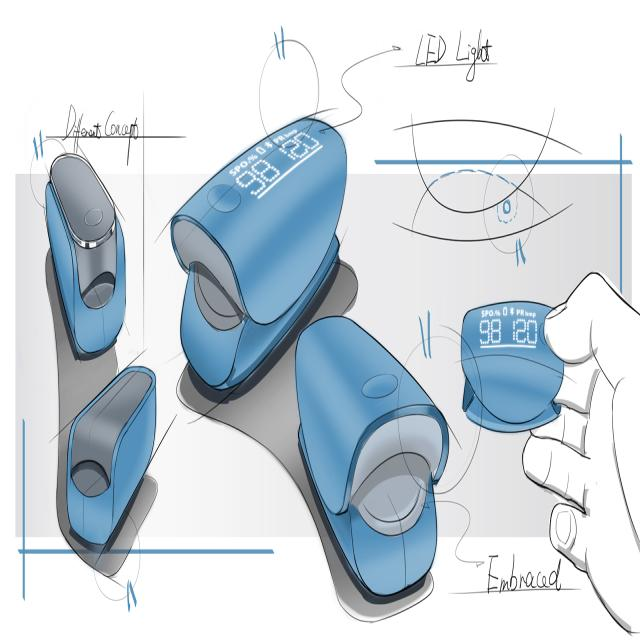oximeter: (167, 104, 456, 621)
